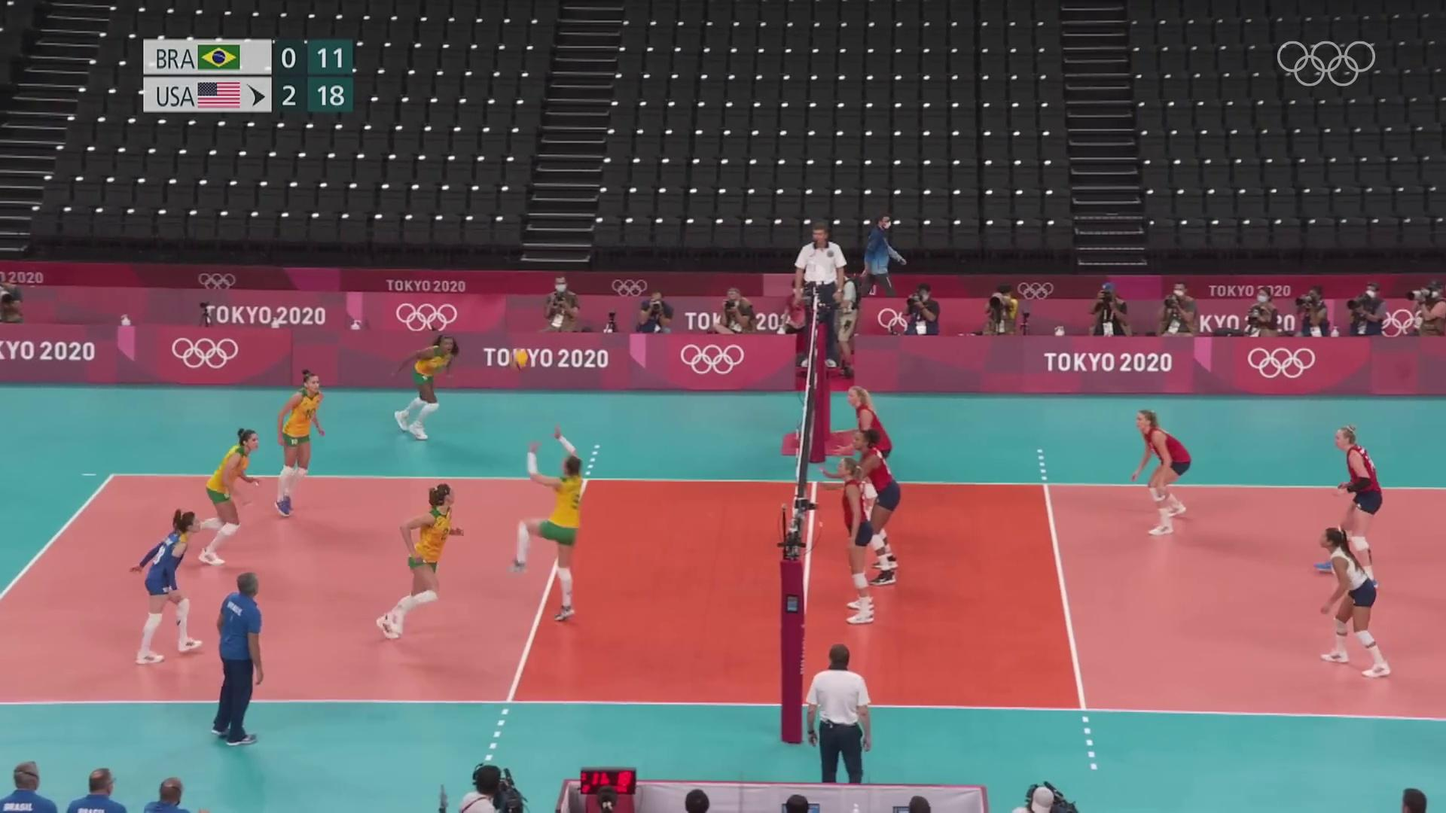player: (376, 481, 466, 641), (516, 427, 586, 623), (1313, 526, 1392, 678), (1313, 426, 1382, 588), (131, 508, 202, 659), (839, 428, 902, 586), (197, 430, 264, 570), (1127, 410, 1196, 535), (273, 371, 331, 518), (842, 387, 893, 536), (393, 333, 459, 445), (836, 456, 877, 625)
refree: (806, 643, 876, 783), (793, 221, 849, 365)
